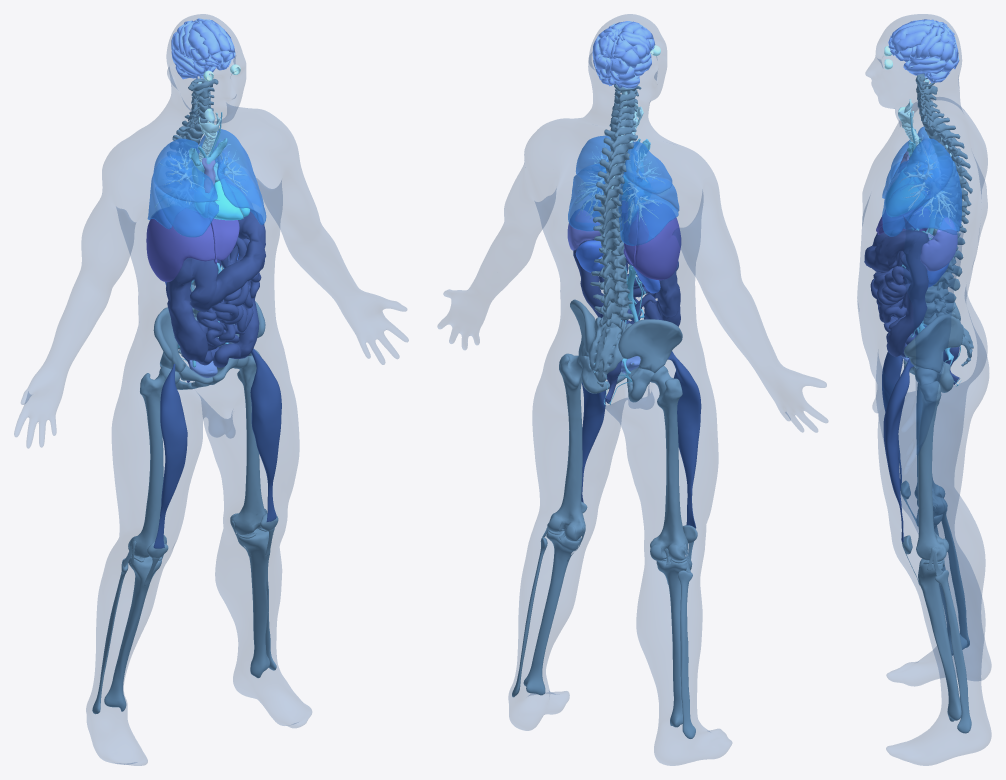
The model's file is male.glb.
3 renders of one model, left to right at view 1: azimuth 30°, elevation 25°; view 2: azimuth 150°, elevation 25°; view 3: azimuth 270°, elevation 25°, orthographic. The views are drawn at different scales.
Visible parts, largest first — view 1: SKIN, INTESTINES, KNEE_RIGHT, MUSCLES, KNEE_LEFT, LUNG_RIGHT, LIVER, BRAIN, LUNG_LEFT, PELVIS, SPINE, HEART (+2 smaller); view 2: SKIN, KNEE_RIGHT, KNEE_LEFT, SPINE, PELVIS, LUNG_RIGHT, MUSCLES, LIVER, BRAIN, INTESTINES, LUNG_LEFT, AIRWAYS (+3 smaller); view 3: SKIN, KNEE_LEFT, INTESTINES, LUNG_LEFT, SPINE, BRAIN, PELVIS, MUSCLES, KNEE_RIGHT, SPLEEN, AIRWAYS, BLOOD_VESSELS (+3 smaller).
Part boxes in pixels (left/top/right/bottom): SKIN: left=14, top=14, right=408, bottom=765; INTESTINES: left=166, top=210, right=265, bottom=382; KNEE_RIGHT: left=92, top=366, right=180, bottom=714; MUSCLES: left=153, top=348, right=281, bottom=548; KNEE_LEFT: left=230, top=349, right=278, bottom=678; LUNG_RIGHT: left=147, top=138, right=218, bottom=237; LIVER: left=146, top=208, right=239, bottom=281; BRAIN: left=171, top=18, right=235, bottom=79; LUNG_LEFT: left=198, top=129, right=266, bottom=224; PELVIS: left=153, top=301, right=265, bottom=389; SPINE: left=167, top=78, right=218, bottom=316; HEART: left=192, top=174, right=249, bottom=220; SKIN: left=437, top=14, right=828, bottom=765; KNEE_RIGHT: left=650, top=366, right=697, bottom=738; KNEE_LEFT: left=512, top=353, right=587, bottom=697; SPINE: left=590, top=84, right=641, bottom=328; PELVIS: left=570, top=299, right=682, bottom=402; LUNG_RIGHT: left=618, top=141, right=679, bottom=245; MUSCLES: left=581, top=351, right=701, bottom=528; LIVER: left=621, top=201, right=681, bottom=280; BRAIN: left=592, top=21, right=655, bottom=88; INTESTINES: left=573, top=201, right=680, bottom=403; LUNG_LEFT: left=568, top=135, right=611, bottom=231; AIRWAYS: left=574, top=103, right=664, bottom=224; SKIN: left=857, top=14, right=991, bottom=765; KNEE_LEFT: left=902, top=367, right=971, bottom=733; INTESTINES: left=864, top=228, right=959, bottom=384; LUNG_LEFT: left=882, top=138, right=961, bottom=236; SPINE: left=915, top=73, right=972, bottom=318; BRAIN: left=888, top=19, right=959, bottom=82; PELVIS: left=903, top=301, right=973, bottom=392; MUSCLES: left=882, top=352, right=913, bottom=542; KNEE_RIGHT: left=900, top=383, right=969, bottom=655; SPLEEN: left=920, top=217, right=957, bottom=271; AIRWAYS: left=898, top=99, right=956, bottom=222; BLOOD_VESSELS: left=891, top=112, right=961, bottom=386.
Bounding box in the file's own units: 1.05 × 1.83 × 0.3163.
